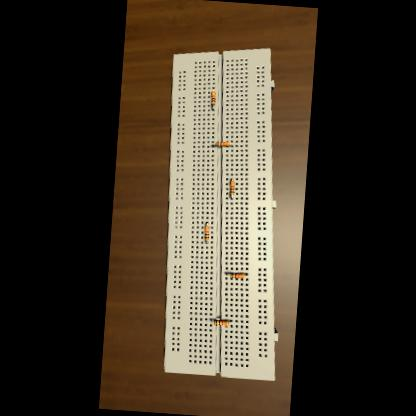breadboard: (150, 40, 298, 380)
resistor: (214, 318, 228, 326), (230, 272, 245, 278), (210, 90, 216, 104), (204, 225, 210, 239), (216, 140, 230, 146), (228, 180, 234, 194)
wire: (210, 318, 214, 322), (212, 104, 214, 110), (212, 142, 215, 146), (226, 272, 229, 275), (230, 194, 232, 198), (244, 272, 246, 276), (206, 221, 208, 224), (230, 143, 232, 146), (229, 320, 231, 323), (206, 240, 207, 243), (232, 178, 233, 180)
